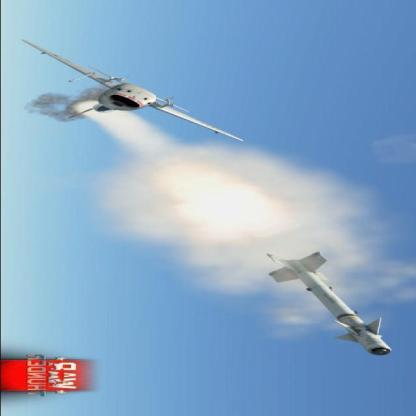MIL_TBM: (259, 253, 403, 359)
